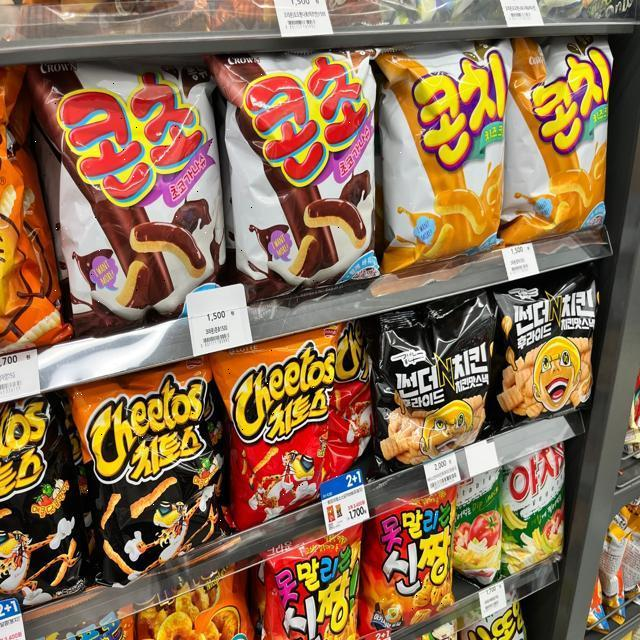product: (32, 66, 221, 331), (227, 54, 377, 293), (73, 371, 221, 567), (383, 53, 509, 273), (226, 329, 347, 521), (512, 39, 612, 242), (371, 493, 456, 637)
